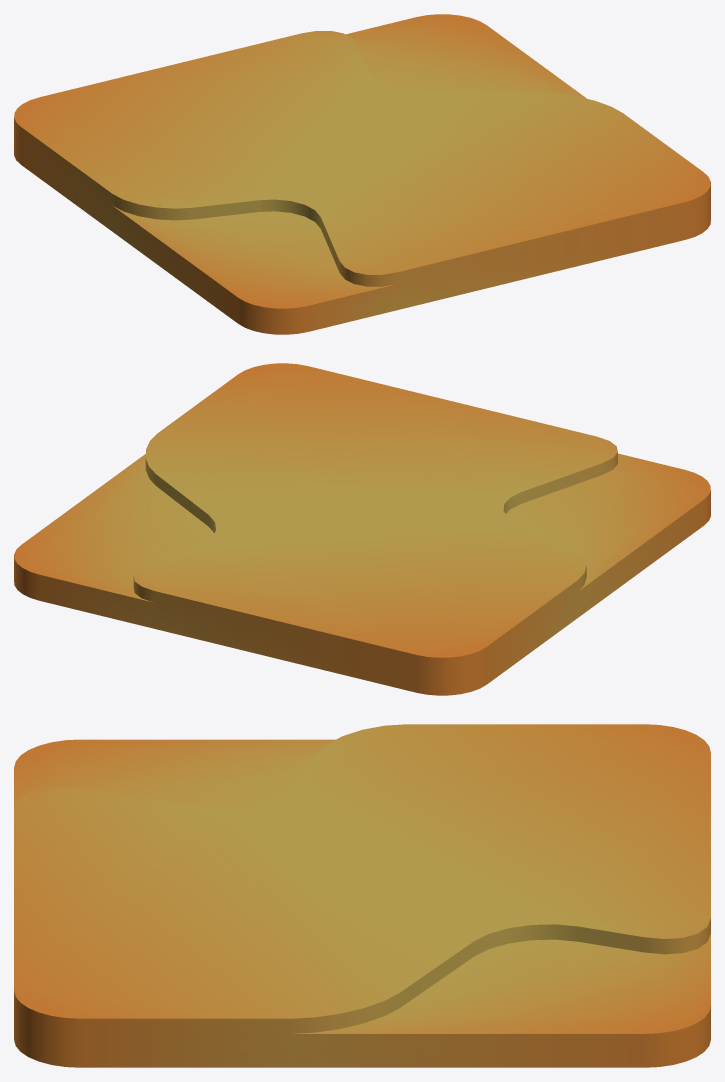
The picture shows the model from 3 angles, top to bottom: view 1: azimuth 30°, elevation 25°; view 2: azimuth 150°, elevation 25°; view 3: azimuth 270°, elevation 25°; orthographic projection. The views are drawn at different scales.
Visible parts, largest first — view 1: LOD 0_332424658592034533_2d0e7e9e3a92c6c43b8ba9db1d431990; view 2: LOD 0_332424658592034533_2d0e7e9e3a92c6c43b8ba9db1d431990; view 3: LOD 0_332424658592034533_2d0e7e9e3a92c6c43b8ba9db1d431990.
Boxes of the visible parts, left/top/right/bottom form: LOD 0_332424658592034533_2d0e7e9e3a92c6c43b8ba9db1d431990: left=14, top=14, right=710, bottom=334; LOD 0_332424658592034533_2d0e7e9e3a92c6c43b8ba9db1d431990: left=14, top=363, right=710, bottom=695; LOD 0_332424658592034533_2d0e7e9e3a92c6c43b8ba9db1d431990: left=14, top=724, right=710, bottom=1067.
Size of the model in its own units: 5.67 by 0.44 by 5.67.
